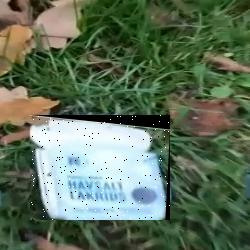restaffald: (30, 115, 170, 220)
